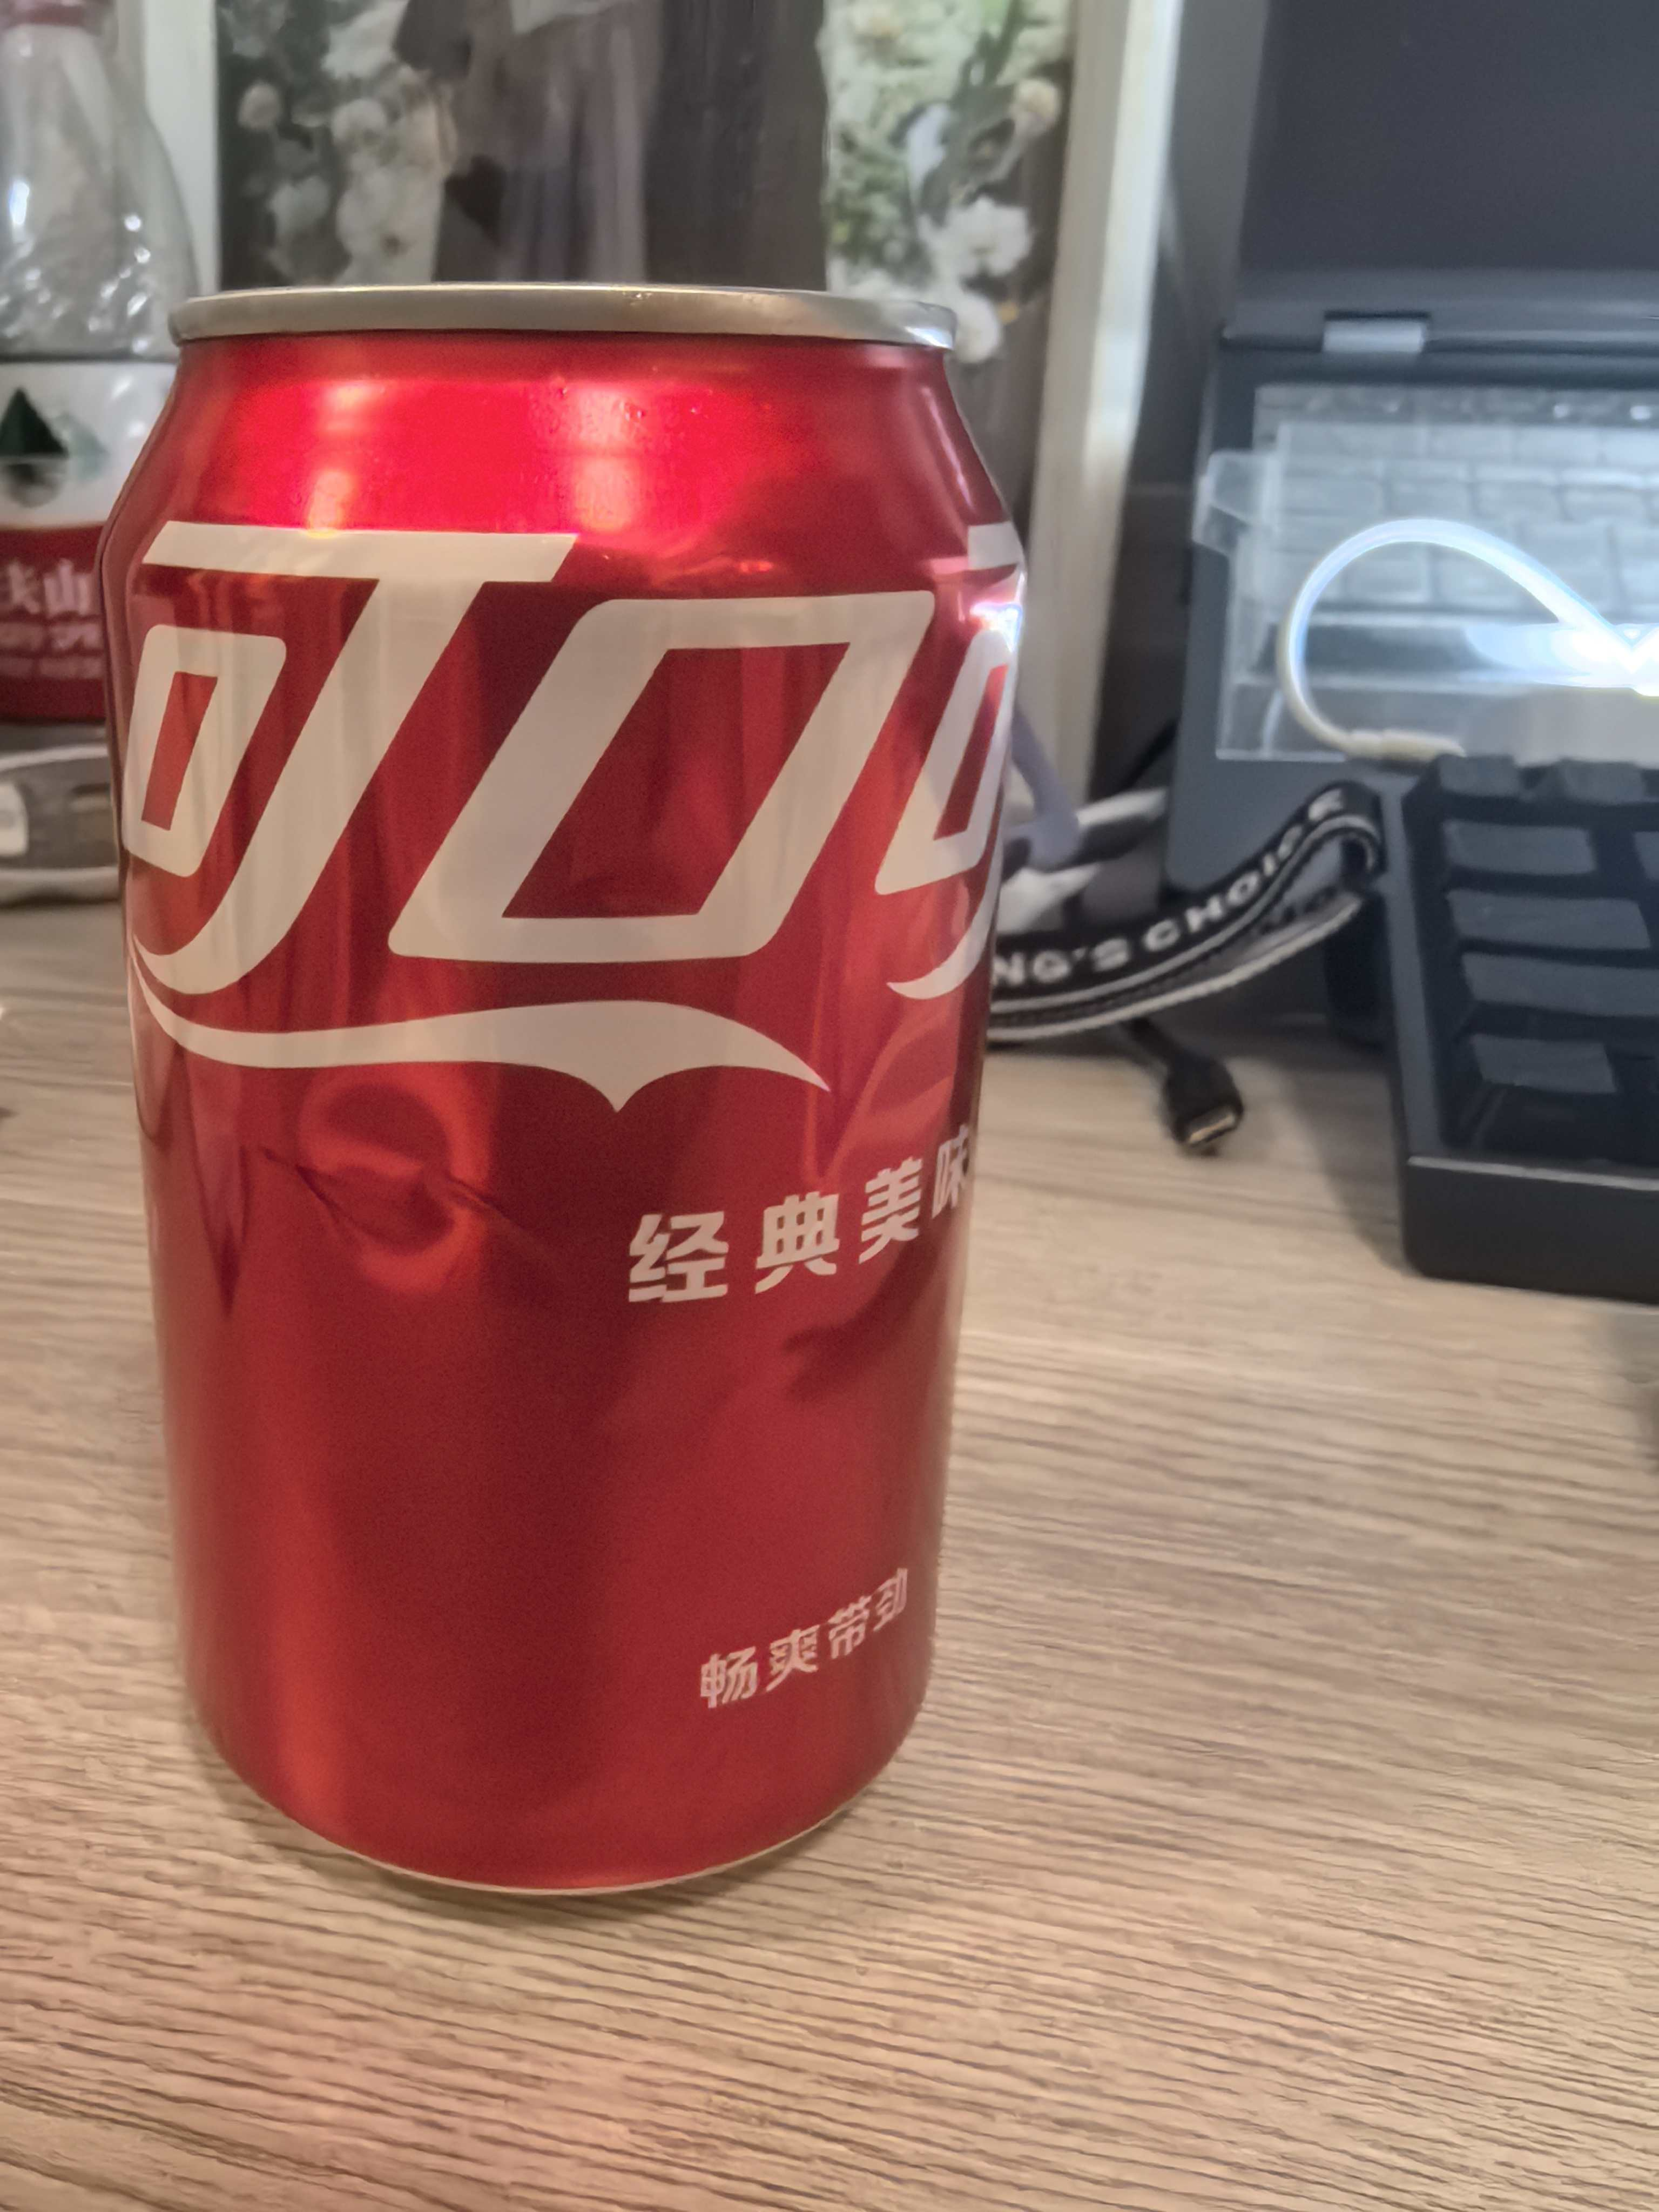可乐: (80, 242, 1060, 1963)
